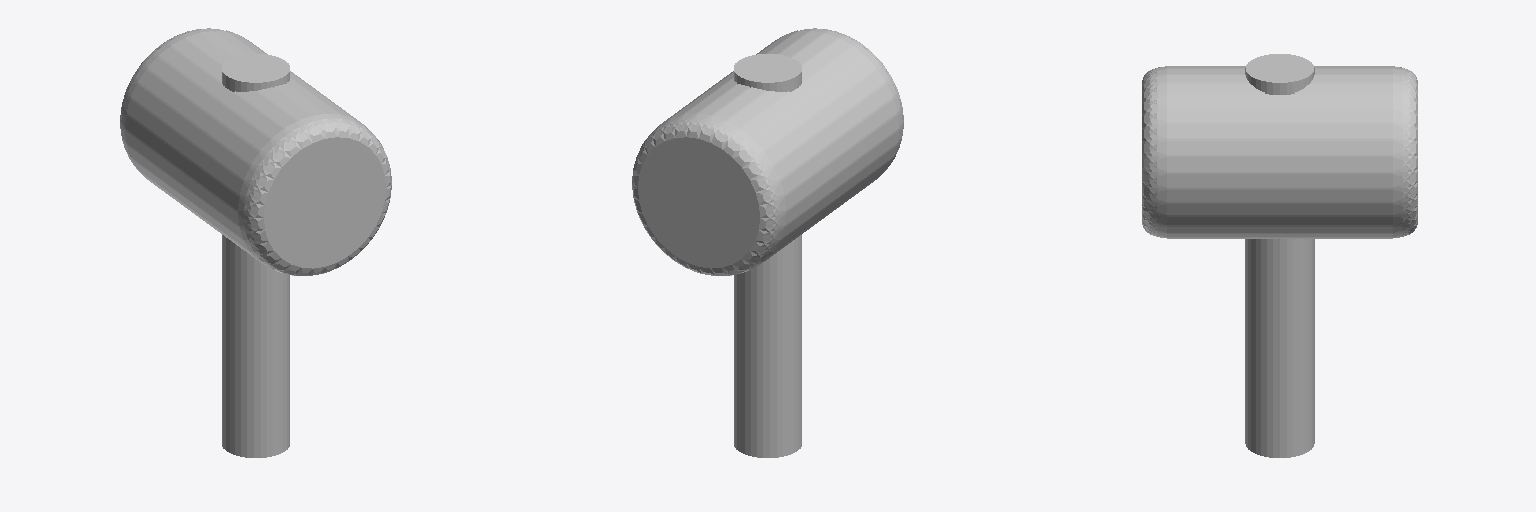
Rendered from Hammer.obj.
The picture shows the model from 3 angles: view 1: azimuth 30°, elevation 25°; view 2: azimuth 150°, elevation 25°; view 3: azimuth 270°, elevation 25°; orthographic projection.
Visible parts, largest first — view 1: Cylinder.001; view 2: Cylinder.001; view 3: Cylinder.001.
Boxes of the visible parts, x1=… form: Cylinder.001: x1=120, y1=28, x2=391, y2=457; Cylinder.001: x1=632, y1=28, x2=903, y2=457; Cylinder.001: x1=1142, y1=54, x2=1417, y2=457.
Size of the model in its own units: 0.4993 by 1.2 by 0.8.